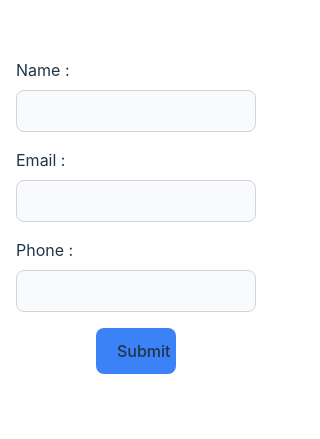
App component › shows validation errors
The image size is (320, 439).
Click the button "Submit": (136, 351) [96, 328, 176, 374]
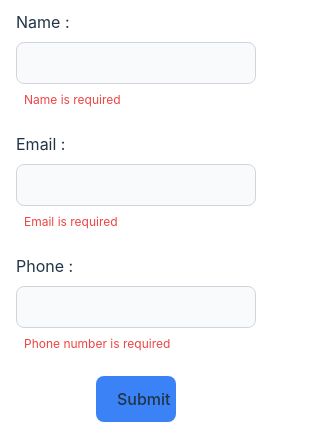
Now the text "Name is required" is shown, box [24, 92, 121, 107]
Now the text "Email is required" is shown, box [24, 214, 118, 229]
Now the text "Phone number is required" is shown, box [24, 336, 170, 351]
